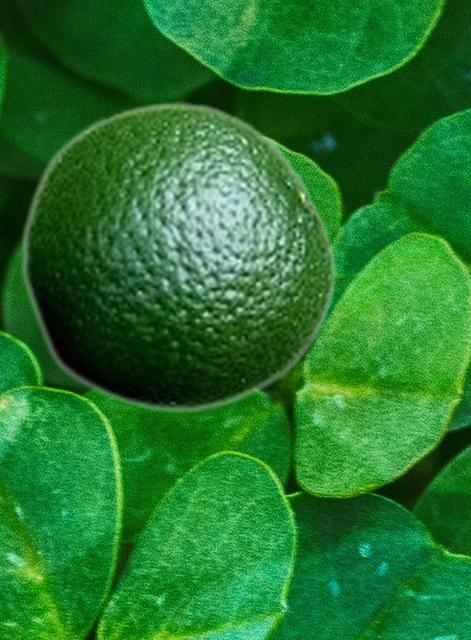calamansi: (19, 100, 337, 414)
